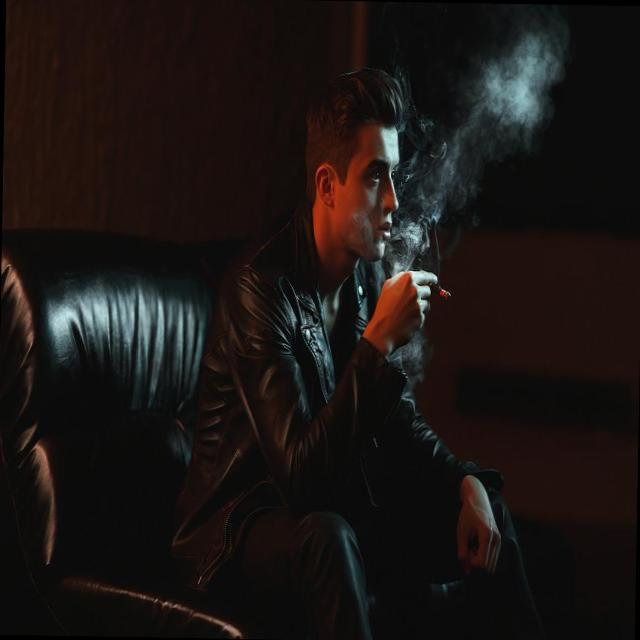cigarette: (422, 262, 456, 308)
